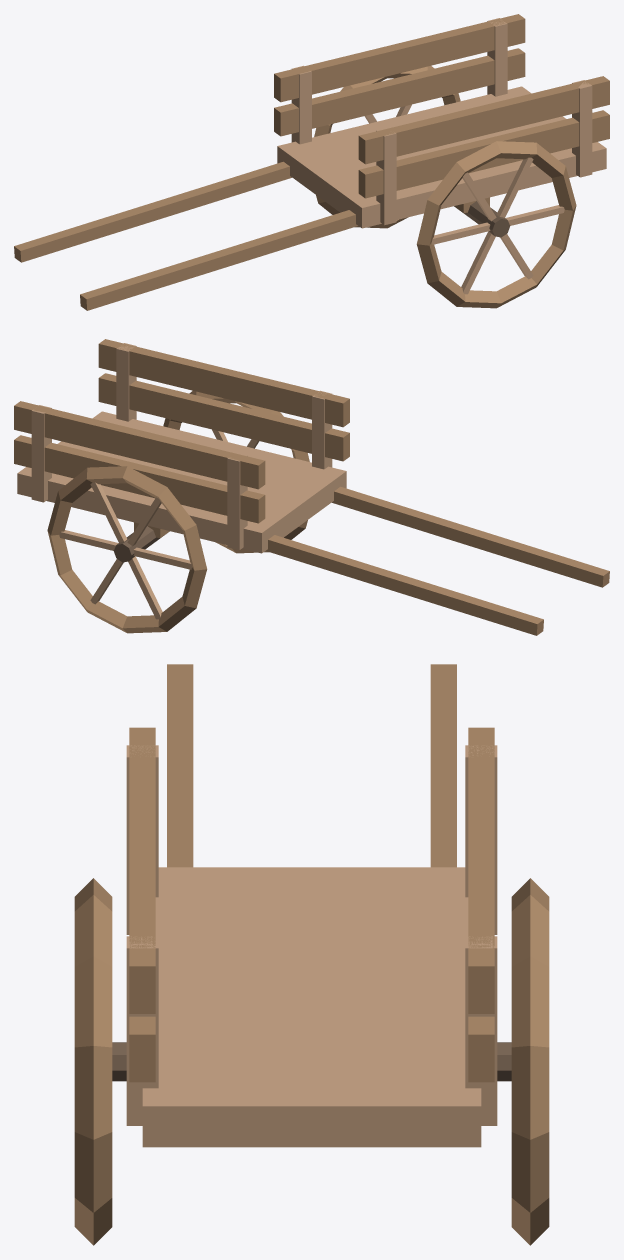
Rendered from merchant-cart.glb.
3 renders of one model, top to bottom at view 1: azimuth 30°, elevation 25°; view 2: azimuth 150°, elevation 25°; view 3: azimuth 270°, elevation 25°, orthographic. The views are drawn at different scales.
Parts seen in each view (by area): view 1: Cart bed 001, Cart wheel rim 013, Cart side plank 007, Cart side plank 003, Cart side plank 006, Cart side plank 002, Cart drawbar 027, Cart drawbar 028, Cart side stake 005, Cart side stake 004, Wheel spoke 015, Cart side stake 009 (+6 smaller); view 2: Cart bed 001, Cart wheel rim 020, Cart side plank 007, Cart side plank 003, Cart side plank 002, Cart side plank 006, Cart drawbar 028, Cart drawbar 027, Cart side stake 009, Cart side stake 008, Wheel spoke 022, Cart side stake 005 (+6 smaller); view 3: Cart bed 001, Cart wheel rim 013, Cart wheel rim 020, Cart side plank 007, Cart side plank 003, Cart drawbar 027, Cart drawbar 028, Cart side stake 009, Cart side stake 005, Cart side plank 002, Cart side plank 006, Cart side stake 004 (+2 smaller).
Boxes of the visible parts, box(x1,y1,x2,y2) form: Cart bed 001: box(277, 86, 606, 228); Cart wheel rim 013: box(416, 141, 576, 308); Cart side plank 007: box(274, 14, 525, 102); Cart side plank 003: box(358, 76, 609, 164); Cart side plank 006: box(274, 48, 525, 136); Cart side plank 002: box(358, 110, 609, 198); Cart drawbar 027: box(80, 210, 357, 310); Cart drawbar 028: box(14, 161, 291, 262); Cart side stake 005: box(572, 80, 592, 177); Cart side stake 004: box(376, 128, 396, 225); Wheel spoke 015: box(461, 157, 533, 294); Cart side stake 009: box(487, 18, 507, 96); Cart bed 001: box(17, 411, 346, 553); Cart wheel rim 020: box(47, 466, 207, 633); Cart side plank 007: box(14, 401, 265, 489); Cart side plank 003: box(98, 339, 349, 427); Cart side plank 002: box(98, 373, 349, 461); Cart side plank 006: box(14, 435, 265, 523); Cart drawbar 028: box(266, 535, 543, 635); Cart drawbar 027: box(332, 486, 609, 587); Cart side stake 009: box(31, 405, 51, 502); Cart side stake 008: box(227, 453, 247, 550); Wheel spoke 022: box(90, 482, 162, 619); Cart side stake 005: box(116, 343, 136, 421); Cart bed 001: box(142, 867, 481, 1147); Cart wheel rim 013: box(74, 878, 112, 1245); Cart wheel rim 020: box(511, 878, 549, 1245); Cart side plank 007: box(468, 727, 494, 1013); Cart side plank 003: box(129, 727, 155, 1013); Cart drawbar 027: box(167, 664, 193, 867); Cart drawbar 028: box(430, 664, 456, 867); Cart side stake 009: box(465, 936, 497, 1125); Cart side stake 005: box(126, 936, 158, 1125); Cart side plank 002: box(129, 1016, 155, 1082); Cart side plank 006: box(468, 1016, 494, 1082); Cart side stake 004: box(126, 745, 158, 934).
Size of the model in its own units: 3.15 by 1.12 by 1.26.
